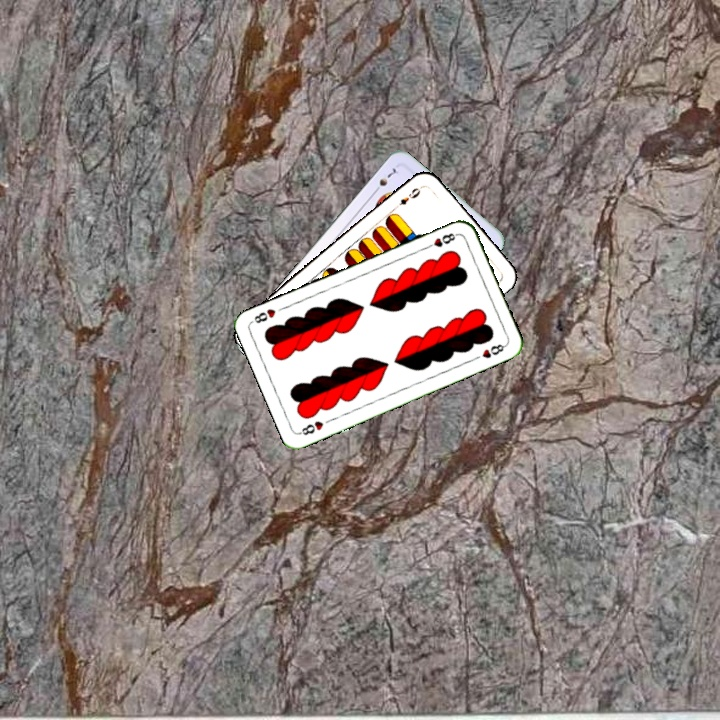E9: (395, 182, 425, 208)
H8: (421, 229, 460, 252), (296, 417, 326, 438)
S7: (369, 164, 399, 196)
